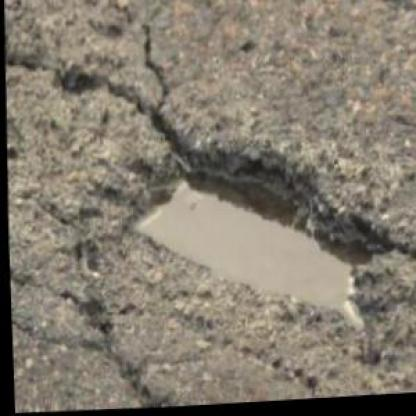pothole: (108, 128, 409, 355)
